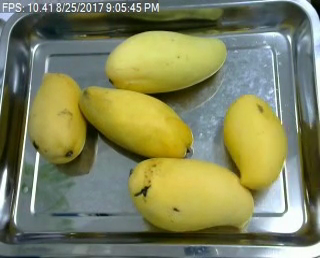Mango: (126, 154, 259, 234), (77, 83, 195, 163), (100, 27, 225, 97), (221, 94, 288, 189), (28, 69, 92, 164)
